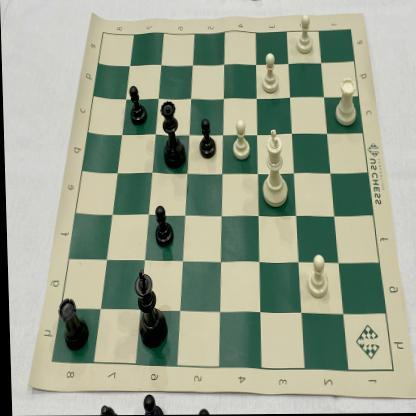black-king: (132, 265, 167, 352)
black-pawn: (150, 203, 175, 249), (195, 116, 217, 162), (126, 83, 148, 127)
black-queen: (157, 99, 188, 172)
black-rook: (55, 296, 88, 355)
white-king: (257, 127, 291, 209)
white-pawn: (304, 252, 330, 303), (258, 51, 281, 97), (293, 13, 317, 57), (229, 118, 252, 163)
white-rook: (331, 76, 360, 128)
